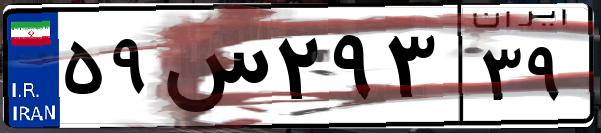2: (270, 28, 330, 110)
3: (385, 28, 445, 110), (475, 38, 525, 113)
5: (57, 26, 110, 100)
9: (330, 28, 385, 110), (525, 38, 570, 115), (110, 28, 158, 98)
س: (158, 20, 270, 120)
